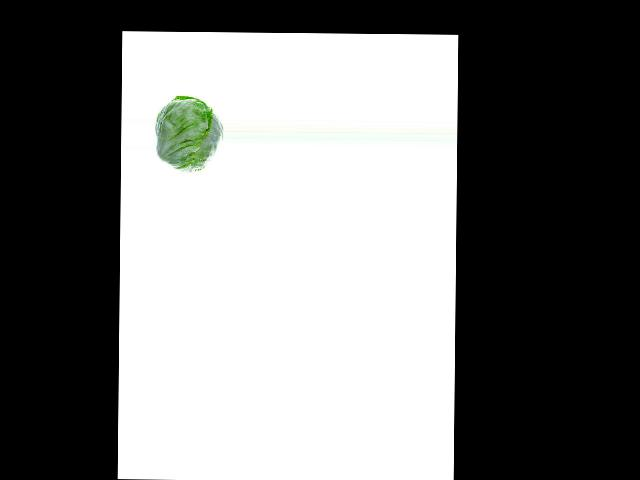lettuce: (158, 97, 221, 171)
